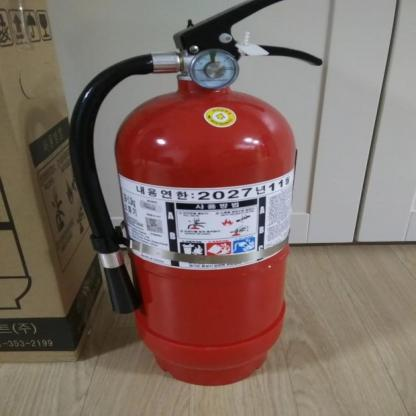Fire Extinguisher: (67, 6, 370, 397)
